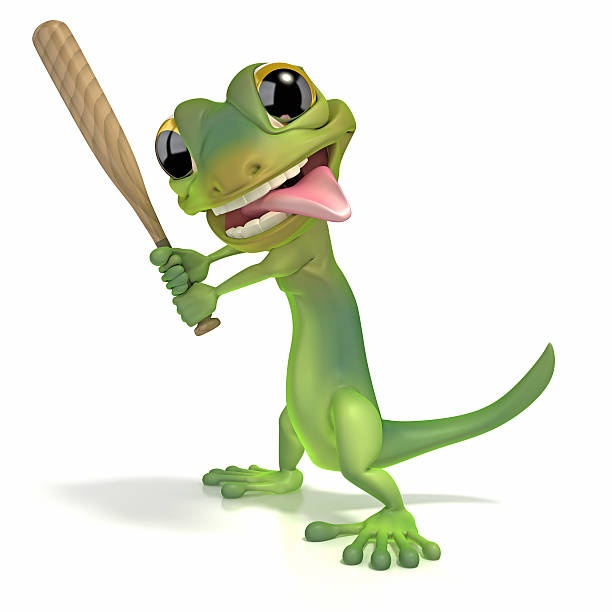bita: (25, 20, 223, 330)
